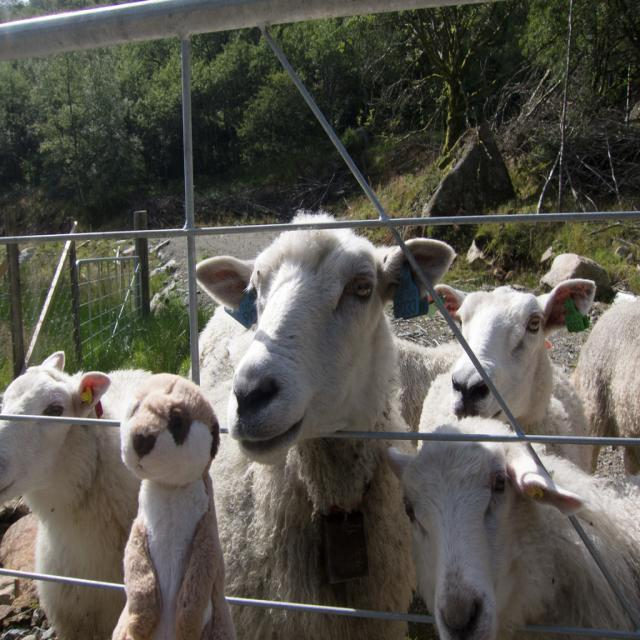Goat: (191, 303, 418, 639), (191, 208, 460, 464), (386, 370, 639, 639), (0, 349, 144, 638), (110, 369, 237, 639), (432, 276, 600, 476), (570, 290, 640, 478)
